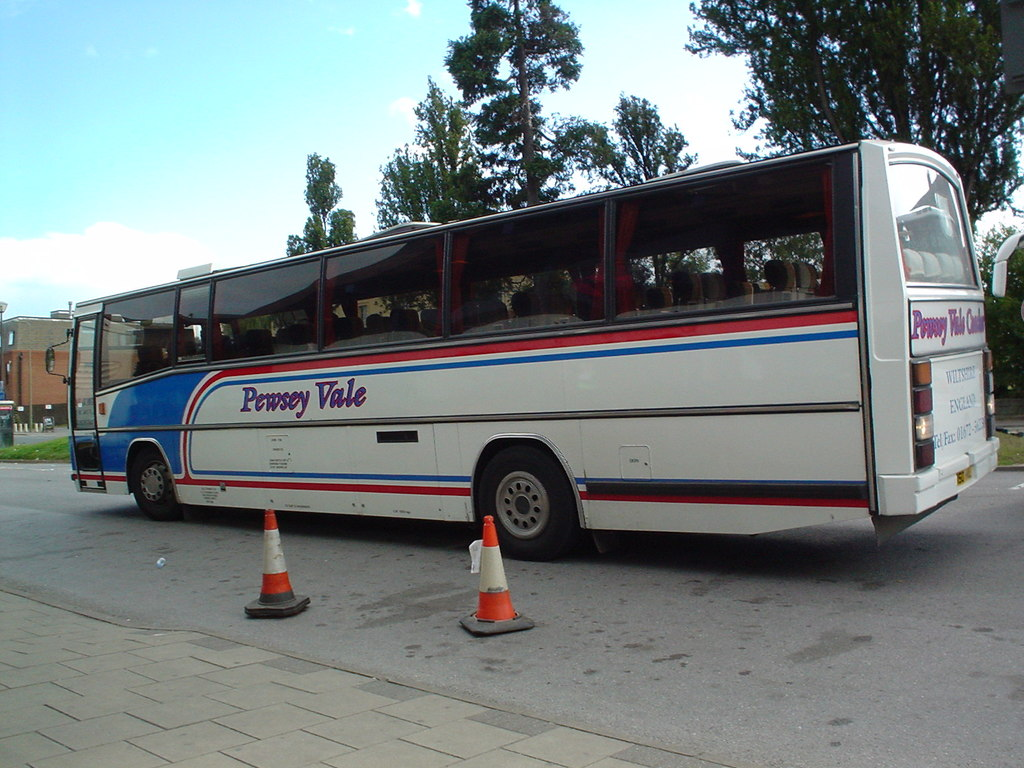Bus: (46, 139, 998, 561), (992, 227, 1023, 320)
